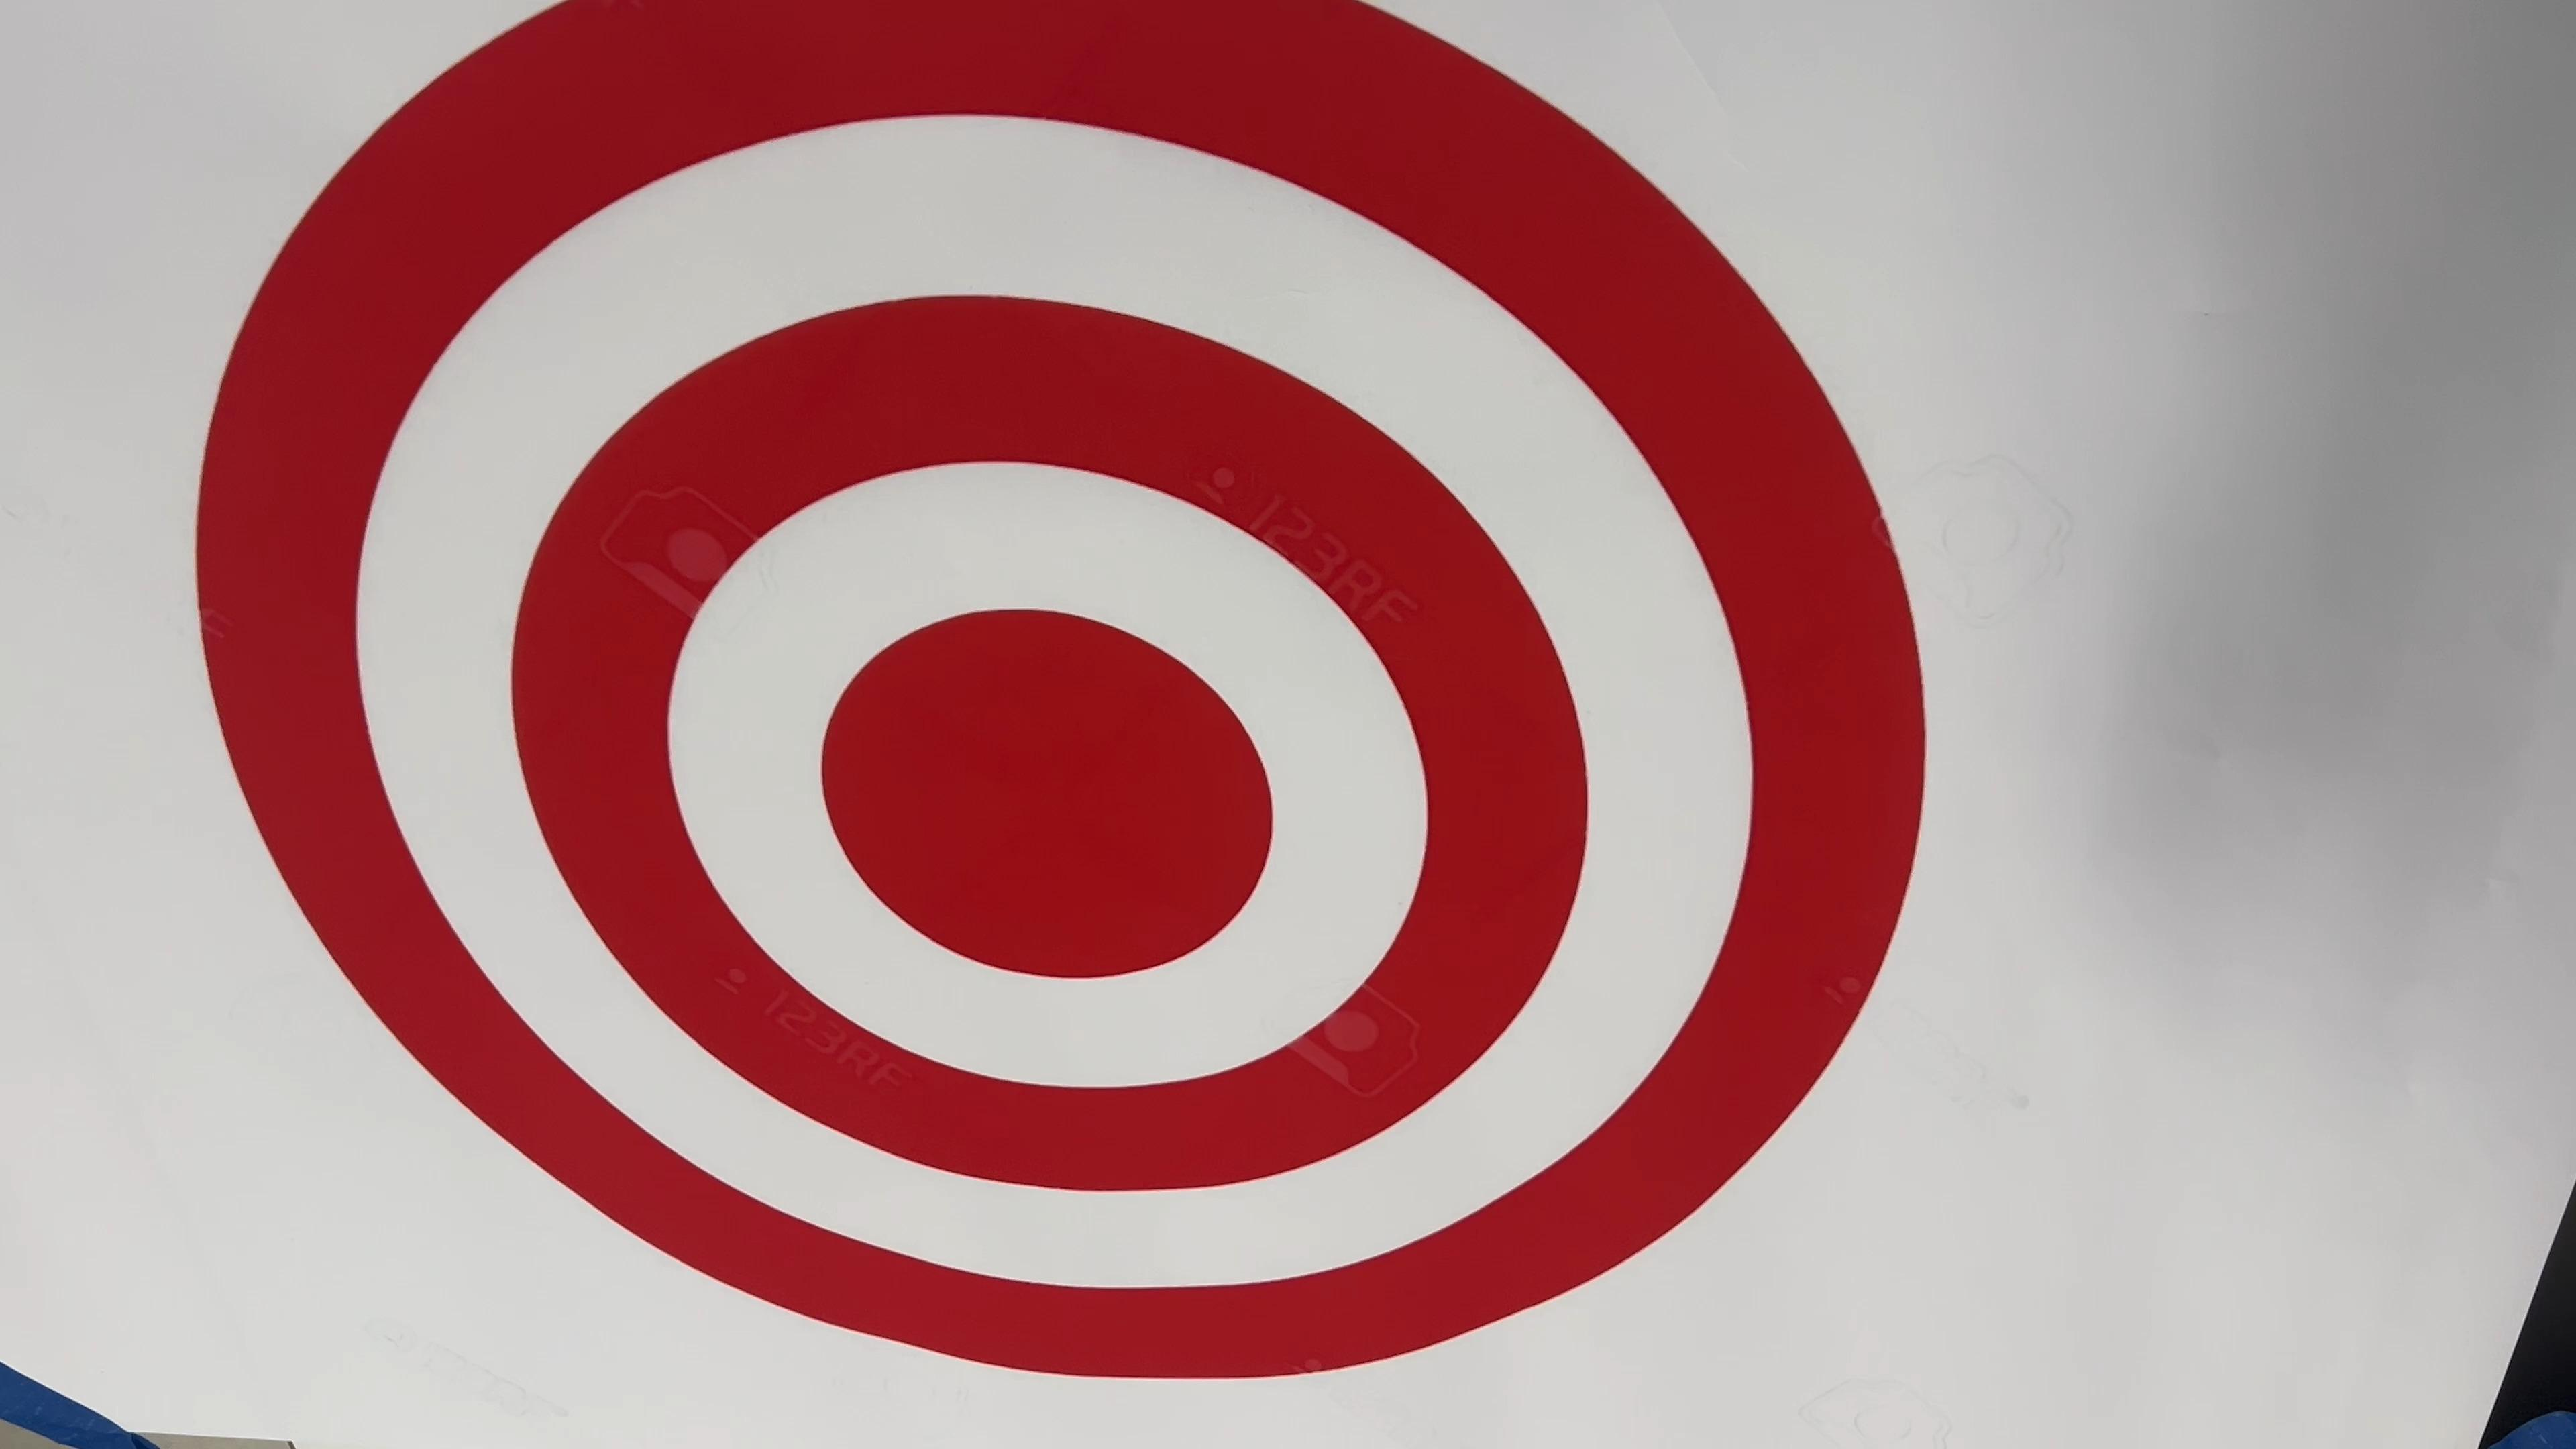target_red: (159, 2, 2095, 1449)
